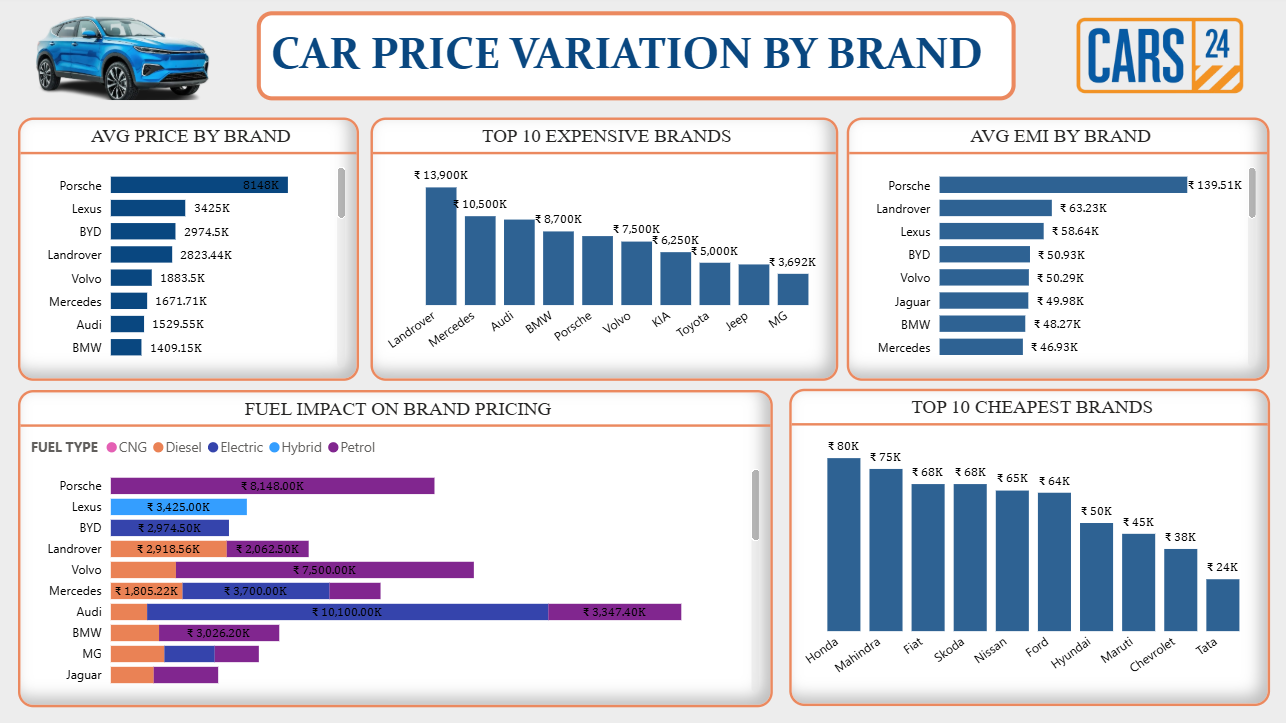

Layout of this report page (visuals, bound fields, positions):
{"tool":"powerbi","page":{"name":"Page 3","canvas":[1280,720],"ordinal":2},"visuals":[{"type":"textbox","box":[258,15.9,742.3,86.8],"z":0},{"type":"image","box":[25,19.5,208.7,83.5],"z":1000},{"type":"image","box":[1035.7,15.9,212.8,86.8],"z":2000},{"type":"clusteredBarChart","title":"AVG PRICE BY BRAND","fields":{"Category":["cars24_all_cities (2).brand"],"Y":["Avg(cars24_all_cities.price)"]},"box":[24.7,119.4,333.4,258],"z":3000},{"type":"clusteredBarChart","title":"AVG EMI BY BRAND","fields":{"Category":["cars24_all_cities (2).brand"],"Y":["Avg(cars24_all_cities (2).emi)"]},"box":[835,120,413.8,257.5],"z":4000},{"type":"barChart","title":"FUEL IMPACT ON BRAND PRICING","fields":{"Category":["cars24_all_cities (2).brand"],"Y":["Avg(cars24_all_cities (2).price)"],"Series":["cars24_all_cities (2).fuel_type"]},"box":[25,386.2,738.8,310],"z":5000},{"type":"columnChart","title":"TOP 10 EXPENSIVE BRANDS","fields":{"Category":["cars24_all_cities (2).brand"],"Y":["Max(cars24_all_cities (2).price)"]},"box":[368.8,120,457.5,257.5],"z":6000},{"type":"columnChart","title":"TOP 10 CHEAPEST BRANDS","fields":{"Category":["cars24_all_cities (2).brand"],"Y":["Min(cars24_all_cities (2).price)"]},"box":[779.4,385.6,470.7,310.1],"z":7001}]}

Visuals, with their boxes in screenshot pixels (x1, y1, x2, y2), scaled from the page's 1280x720 canvas onto the 1286x723 screenshot:
textbox: <bbox>259, 16, 1005, 103</bbox>
image: <bbox>25, 20, 235, 103</bbox>
image: <bbox>1041, 16, 1254, 103</bbox>
"AVG PRICE BY BRAND" clusteredBarChart: <bbox>25, 120, 360, 379</bbox>
"AVG EMI BY BRAND" clusteredBarChart: <bbox>839, 120, 1255, 379</bbox>
"FUEL IMPACT ON BRAND PRICING" barChart: <bbox>25, 388, 767, 699</bbox>
"TOP 10 EXPENSIVE BRANDS" columnChart: <bbox>371, 120, 830, 379</bbox>
"TOP 10 CHEAPEST BRANDS" columnChart: <bbox>783, 387, 1256, 699</bbox>
